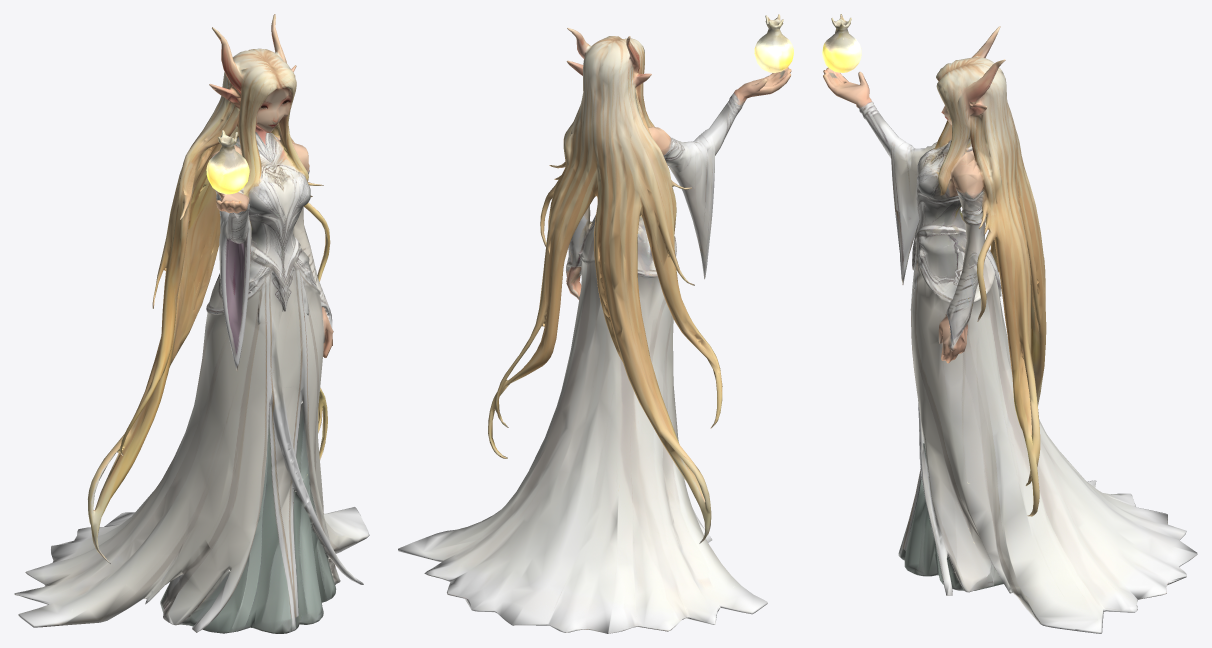
The model's file is sylwen.fbx.
3 renders of one model, left to right at view 1: azimuth 30°, elevation 25°; view 2: azimuth 150°, elevation 25°; view 3: azimuth 270°, elevation 25°, orthographic. The views are drawn at different scales.
Parts seen in each view (by area): view 1: Mesh_0; view 2: Mesh_0; view 3: Mesh_0.
Boxes of the visible parts, bbox=[...] form: Mesh_0: bbox=[14, 14, 369, 633]; Mesh_0: bbox=[398, 14, 793, 633]; Mesh_0: bbox=[822, 14, 1197, 633].
Bounding box in the file's own units: 1.27 × 1.91 × 1.25.
Materials: 1 (1 with a texture image).
